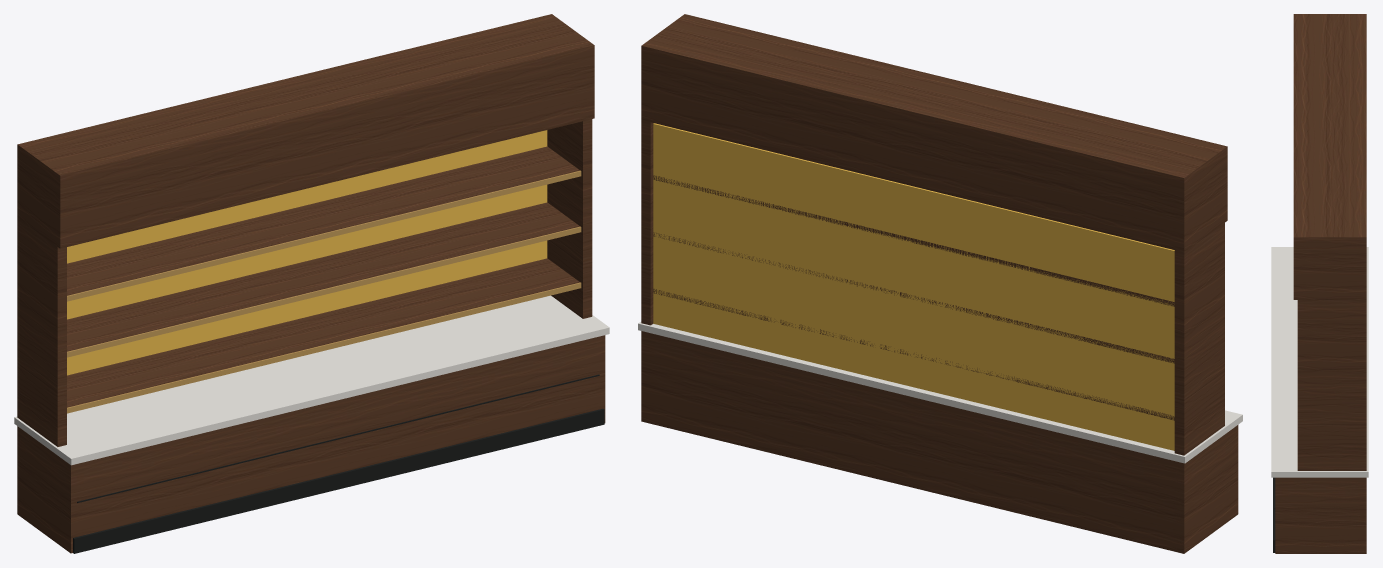
Rendered from Kids_Wall_Bay.glb.
3 renders of one model, left to right at view 1: azimuth 30°, elevation 25°; view 2: azimuth 150°, elevation 25°; view 3: azimuth 270°, elevation 25°, orthographic. The views are drawn at different scales.
Visible parts, largest first — view 1: Kids_Wall_Bay_Walnut, Kids_Wall_Bay_Stone, Kids_Wall_Bay_Yellow, Kids_Wall_Bay_Black_Metal, Kids_Wall_Bay_Brass; view 2: Kids_Wall_Bay_Walnut, Kids_Wall_Bay_Yellow, Kids_Wall_Bay_Stone; view 3: Kids_Wall_Bay_Walnut, Kids_Wall_Bay_Stone, Kids_Wall_Bay_Black_Metal.
Part boxes in pixels (box(x1,y1,x2,y2)): Kids_Wall_Bay_Walnut: box(17, 14, 605, 553); Kids_Wall_Bay_Stone: box(14, 295, 609, 465); Kids_Wall_Bay_Yellow: box(67, 130, 547, 375); Kids_Wall_Bay_Black_Metal: box(73, 374, 604, 553); Kids_Wall_Bay_Brass: box(67, 170, 581, 413); Kids_Wall_Bay_Walnut: box(641, 14, 1238, 553); Kids_Wall_Bay_Yellow: box(653, 123, 1174, 450); Kids_Wall_Bay_Stone: box(638, 321, 1242, 463); Kids_Wall_Bay_Walnut: box(1275, 14, 1366, 553); Kids_Wall_Bay_Stone: box(1271, 247, 1368, 477); Kids_Wall_Bay_Black_Metal: box(1273, 477, 1275, 552).
Bounding box in the file's own units: 2.62 × 1.72 × 0.48.
Materials: 6 (1 with a texture image).
